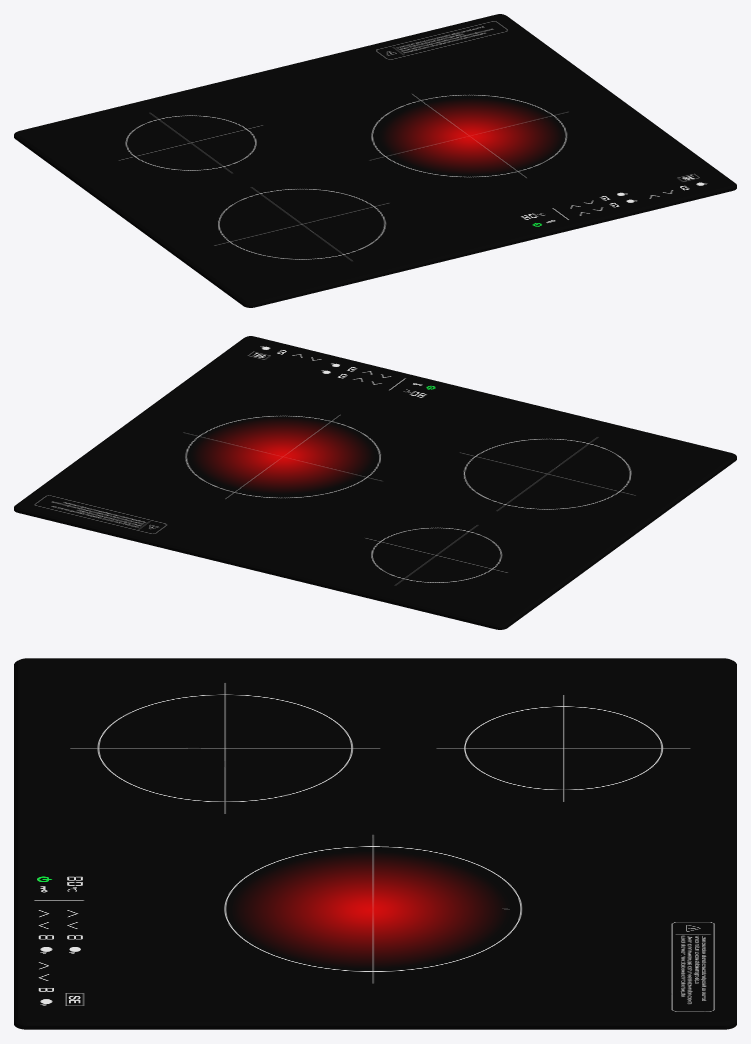
The model's file is Fogao.fbx.
3 renders of one model, top to bottom at view 1: azimuth 30°, elevation 25°; view 2: azimuth 150°, elevation 25°; view 3: azimuth 270°, elevation 25°, orthographic. The views are drawn at different scales.
Parts seen in each view (by area): view 1: Plane.001; view 2: Plane.001; view 3: Plane.001.
Part boxes in pixels (box(x1,y1,x2,y2)): Plane.001: box(14, 14, 736, 307); Plane.001: box(14, 336, 736, 629); Plane.001: box(14, 658, 736, 1029).
Bounding box in the file's own units: 600 × 5 × 500.
1 material, 1 textured.
